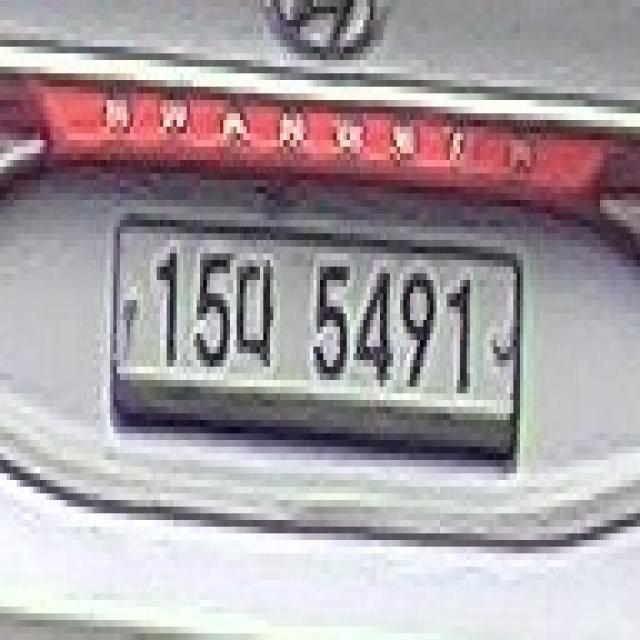1: (150, 240, 190, 380), (443, 260, 480, 393)
4: (356, 254, 396, 394)
5: (190, 233, 237, 380), (307, 254, 353, 394)
9: (400, 253, 440, 400)
da: (233, 247, 280, 380)
license_plate: (103, 200, 527, 487)
